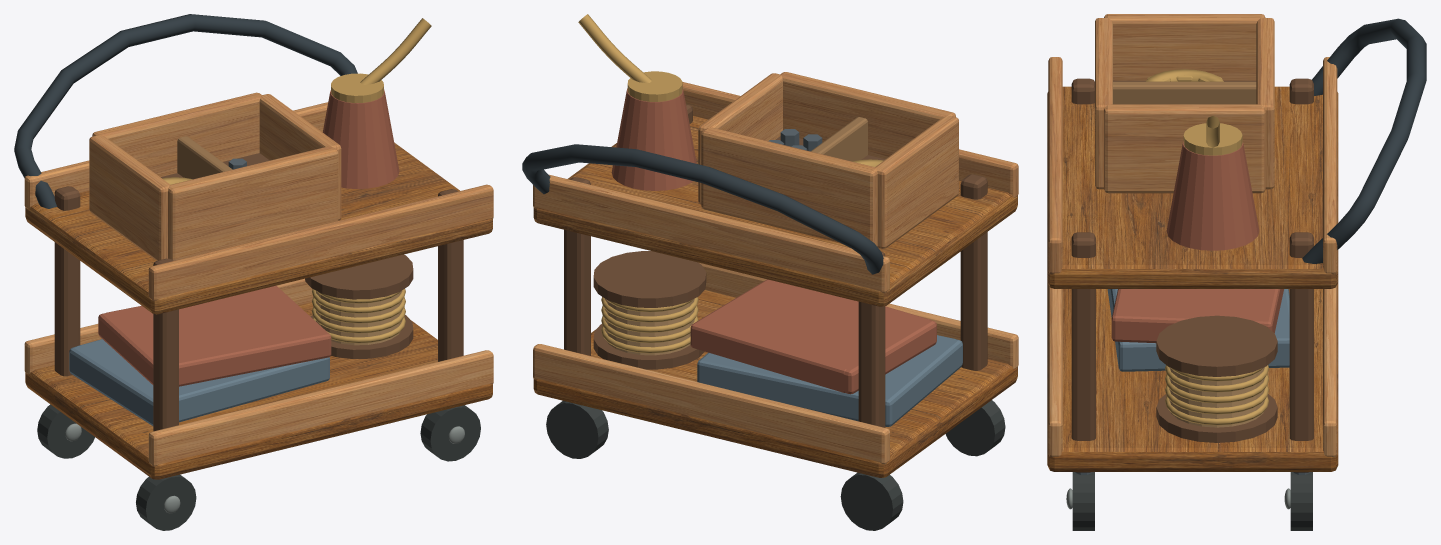
3 renders of one model, left to right at view 1: azimuth 30°, elevation 25°; view 2: azimuth 150°, elevation 25°; view 3: azimuth 270°, elevation 25°, orthographic. The views are drawn at different scales.
Parts seen in each view (by area): view 1: workshop_oak, workshop_bench, workshop_red, workshop_wood_dark, workshop_blue, workshop_steel_dark, workshop_rubber, workshop_brass, workshop_wood_edge, workshop_wood, workshop_steel_light; view 2: workshop_oak, workshop_bench, workshop_red, workshop_wood_dark, workshop_blue, workshop_rubber, workshop_steel_dark, workshop_brass, workshop_wood_edge, workshop_wood, workshop_steel; view 3: workshop_bench, workshop_oak, workshop_wood_dark, workshop_red, workshop_steel_dark, workshop_brass, workshop_wood, workshop_rubber, workshop_blue, workshop_wood_edge.
Boxes of the visible parts, x1,y1,x2,y2 form: workshop_oak: (24, 92, 493, 466); workshop_bench: (25, 142, 492, 479); workshop_red: (98, 89, 399, 386); workshop_wood_dark: (54, 153, 463, 431); workshop_blue: (69, 339, 329, 425); workshop_steel_dark: (14, 14, 357, 208); workshop_rubber: (37, 404, 480, 530); workshop_brass: (162, 18, 431, 343); workshop_wood_edge: (315, 290, 402, 345); workshop_wood: (177, 136, 232, 179); workshop_steel_light: (65, 423, 464, 513); workshop_oak: (533, 72, 1018, 464); workshop_bench: (533, 116, 1017, 477); workshop_red: (611, 88, 936, 394); workshop_wood_dark: (564, 104, 987, 427); workshop_blue: (697, 335, 962, 426); workshop_rubber: (546, 400, 1005, 530); workshop_steel_dark: (522, 144, 883, 274); workshop_brass: (578, 14, 883, 353); workshop_wood_edge: (604, 298, 694, 355); workshop_wood: (811, 117, 867, 161); workshop_steel: (571, 129, 870, 475); workshop_bench: (1047, 86, 1338, 471); workshop_oak: (1048, 14, 1337, 457); workshop_wood_dark: (1071, 78, 1313, 472); workshop_red: (1111, 141, 1283, 343); workshop_steel_dark: (1302, 18, 1426, 263); workshop_brass: (1146, 69, 1268, 425); workshop_wood: (1113, 81, 1256, 104); workshop_rubber: (1072, 472, 1312, 530); workshop_blue: (1107, 289, 1289, 371); workshop_wood_edge: (1169, 367, 1264, 427).
Bounding box in the file's own units: 1.11 × 1.17 × 0.9386.
Materials: 13 (2 with a texture image).
